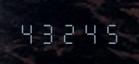five: (98, 20, 117, 44)
four: (18, 20, 37, 44), (78, 20, 97, 44)
three: (38, 20, 57, 44)
two: (58, 20, 77, 44)
